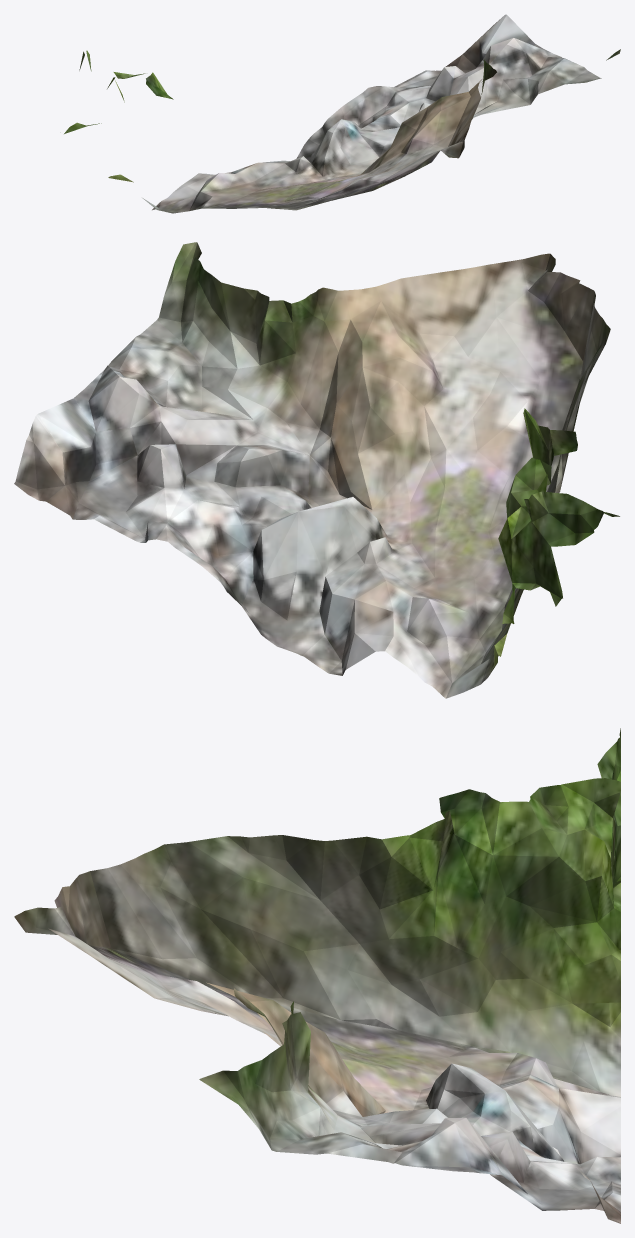
3 views of the same model, one above another, from view 1: azimuth 30°, elevation 25°; view 2: azimuth 150°, elevation 25°; view 3: azimuth 270°, elevation 25° (orthographic). The views are drawn at different scales.
Bounding box in the file's own units: 25.23 × 9.08 × 18.13.
Materials: 2 (2 with a texture image).
